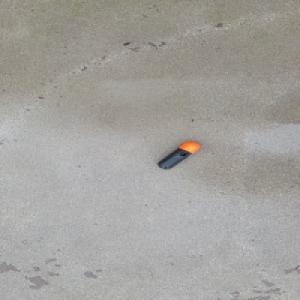PlasticPart: (156, 141, 200, 169)
